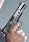pistol: (1, 1, 29, 42)
